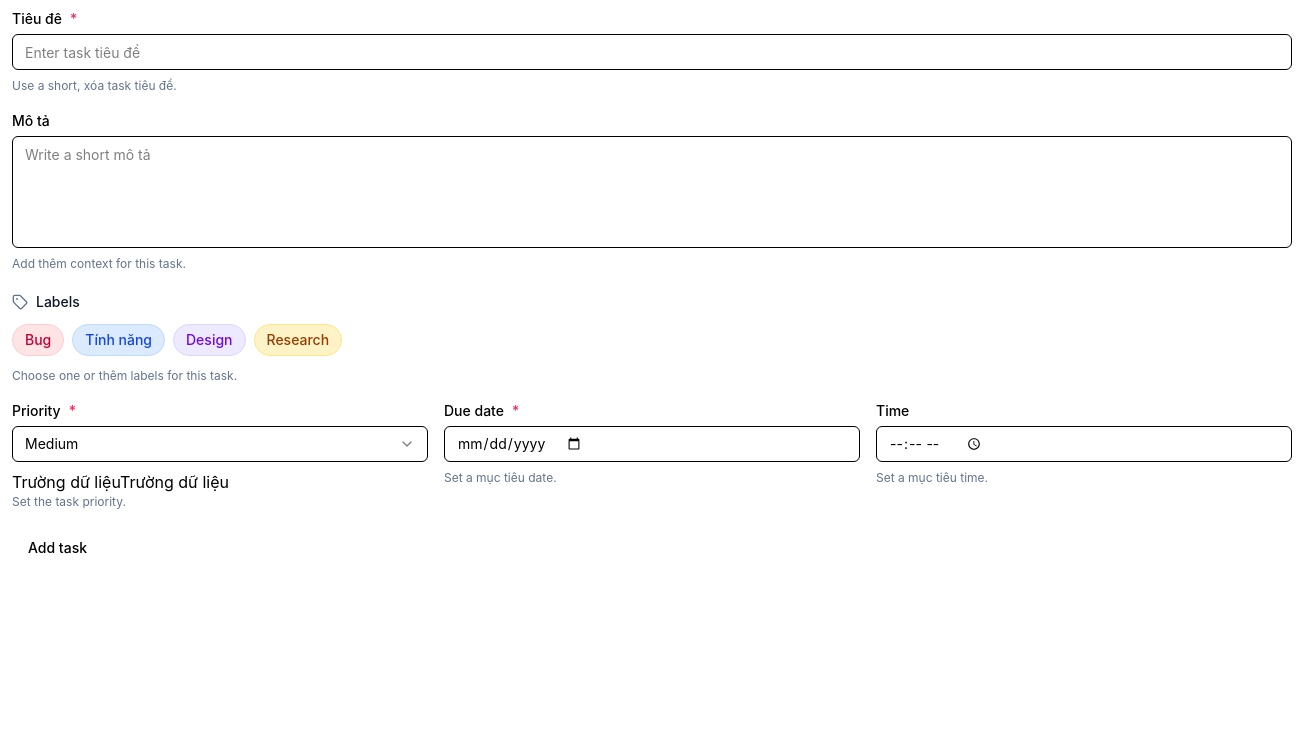
Test: TaskForm › does not submit when title is missing
The width and height of the screenshot is (1304, 732).
Click the button "Add task": (58, 548) [12,530,103,566]
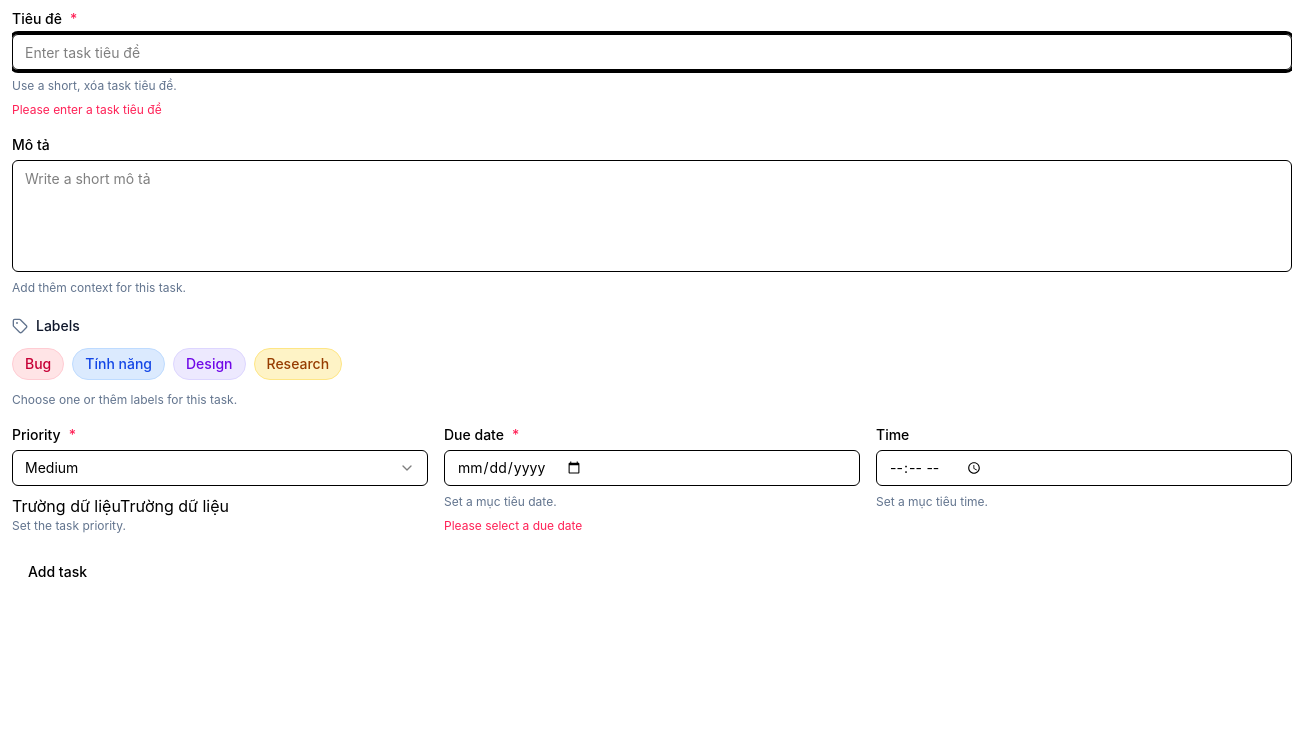
Expected: the text "Please enter a task tiêu đề" is shown, [12,102,162,117]
